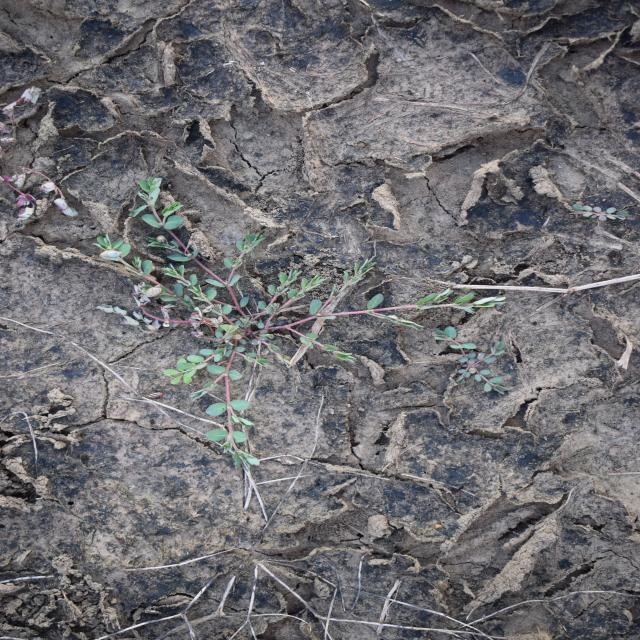SpottedSpurge: (90, 175, 509, 470), (429, 326, 516, 400), (569, 199, 633, 224)
